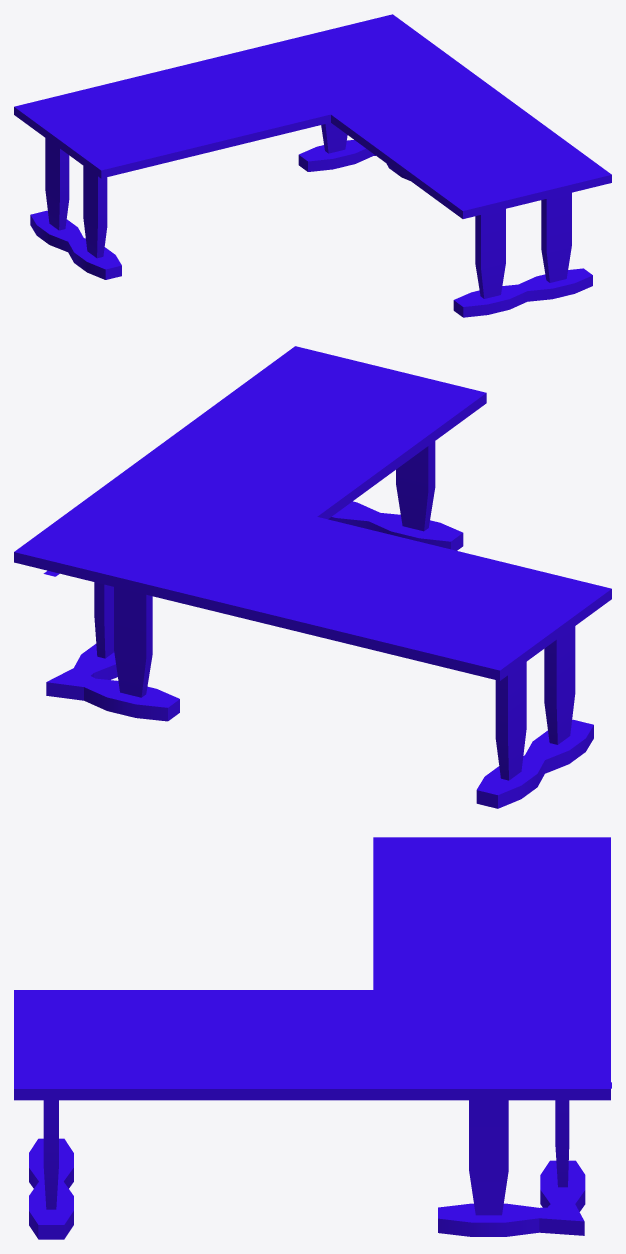
Rendered from office_pack_table_L_large_2_meshCollider.fbx.
The picture shows the model from 3 angles, top to bottom: view 1: azimuth 30°, elevation 25°; view 2: azimuth 150°, elevation 25°; view 3: azimuth 270°, elevation 25°; orthographic projection. The views are drawn at different scales.
Visible parts, largest first — view 1: Office_pack_table_L_large_2_meshCollider; view 2: Office_pack_table_L_large_2_meshCollider; view 3: Office_pack_table_L_large_2_meshCollider.
Boxes of the visible parts, <box> form: Office_pack_table_L_large_2_meshCollider: <box>14,14,611,317</box>; Office_pack_table_L_large_2_meshCollider: <box>14,346,611,808</box>; Office_pack_table_L_large_2_meshCollider: <box>14,837,611,1239</box>.
Bounding box in the file's own units: 151 × 43.84 × 151.
